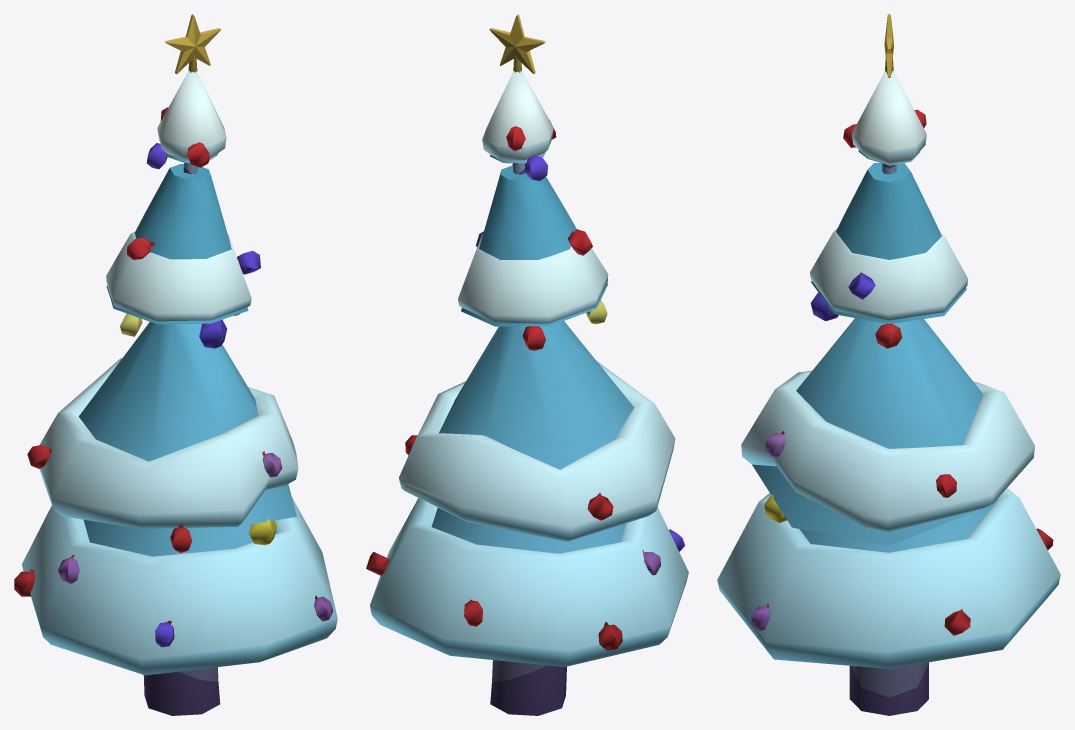
The model's file is Tree_02_Lights.fbx.
The picture shows the model from 3 angles, left to right: view 1: azimuth 30°, elevation 25°; view 2: azimuth 150°, elevation 25°; view 3: azimuth 270°, elevation 25°; orthographic projection.
Visible parts, largest first — view 1: Cylinder.010; view 2: Cylinder.010; view 3: Cylinder.010.
Boxes of the visible parts, x1=… form: Cylinder.010: x1=14, y1=14, x2=337, y2=715; Cylinder.010: x1=366, y1=14, x2=688, y2=715; Cylinder.010: x1=717, y1=14, x2=1060, y2=715.
Size of the model in its own units: 274 by 636 by 287.
